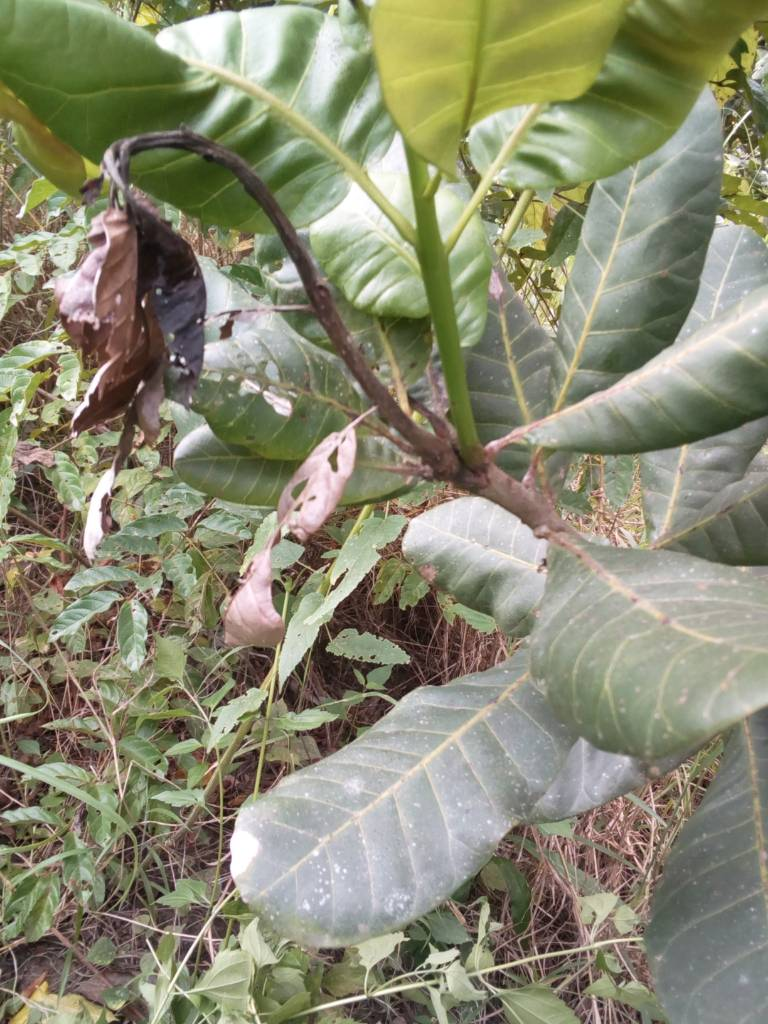Dessèchement des bourgeons: (57, 125, 236, 460)
